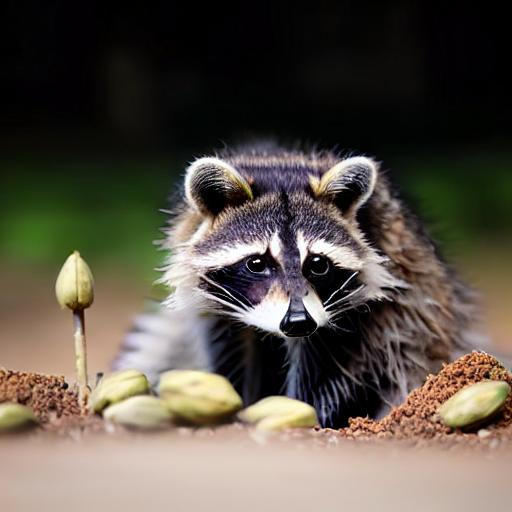raccoon: (153, 127, 486, 410)
